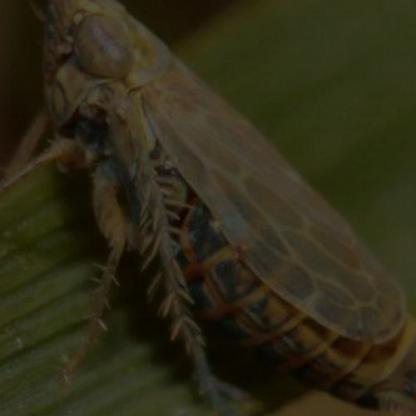green-leafhopper: (45, 2, 395, 381)
